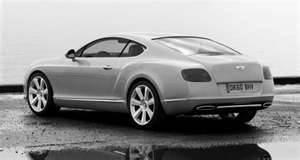car: (24, 28, 281, 140)
